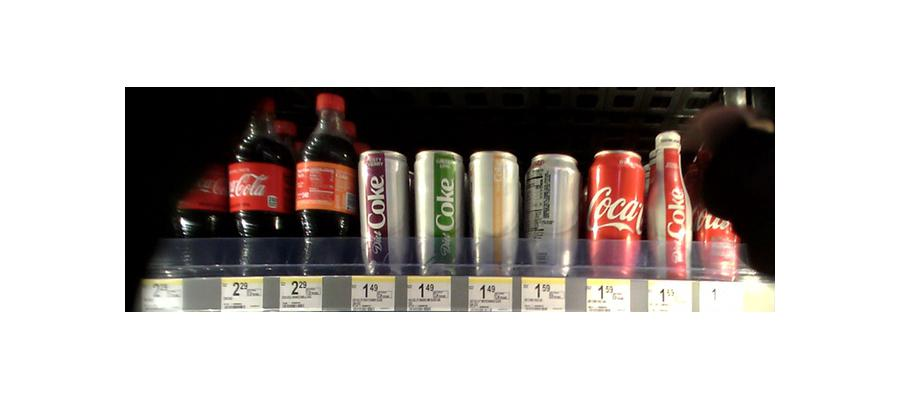bottle: (688, 92, 760, 290), (229, 93, 291, 277), (294, 94, 355, 277), (587, 147, 649, 277), (525, 153, 583, 277), (651, 127, 696, 285), (468, 149, 522, 277), (357, 148, 410, 277), (175, 138, 226, 272), (413, 150, 464, 274)
